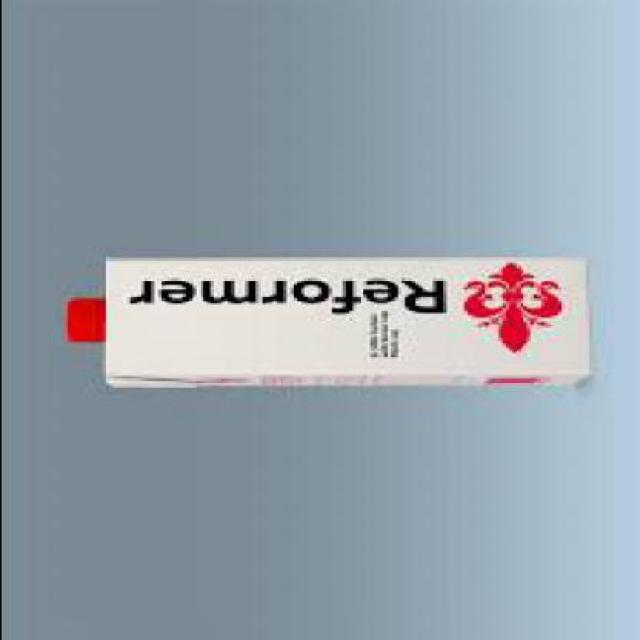CARDBOARD: (98, 260, 592, 392)
PLASTIC: (59, 302, 98, 346)
